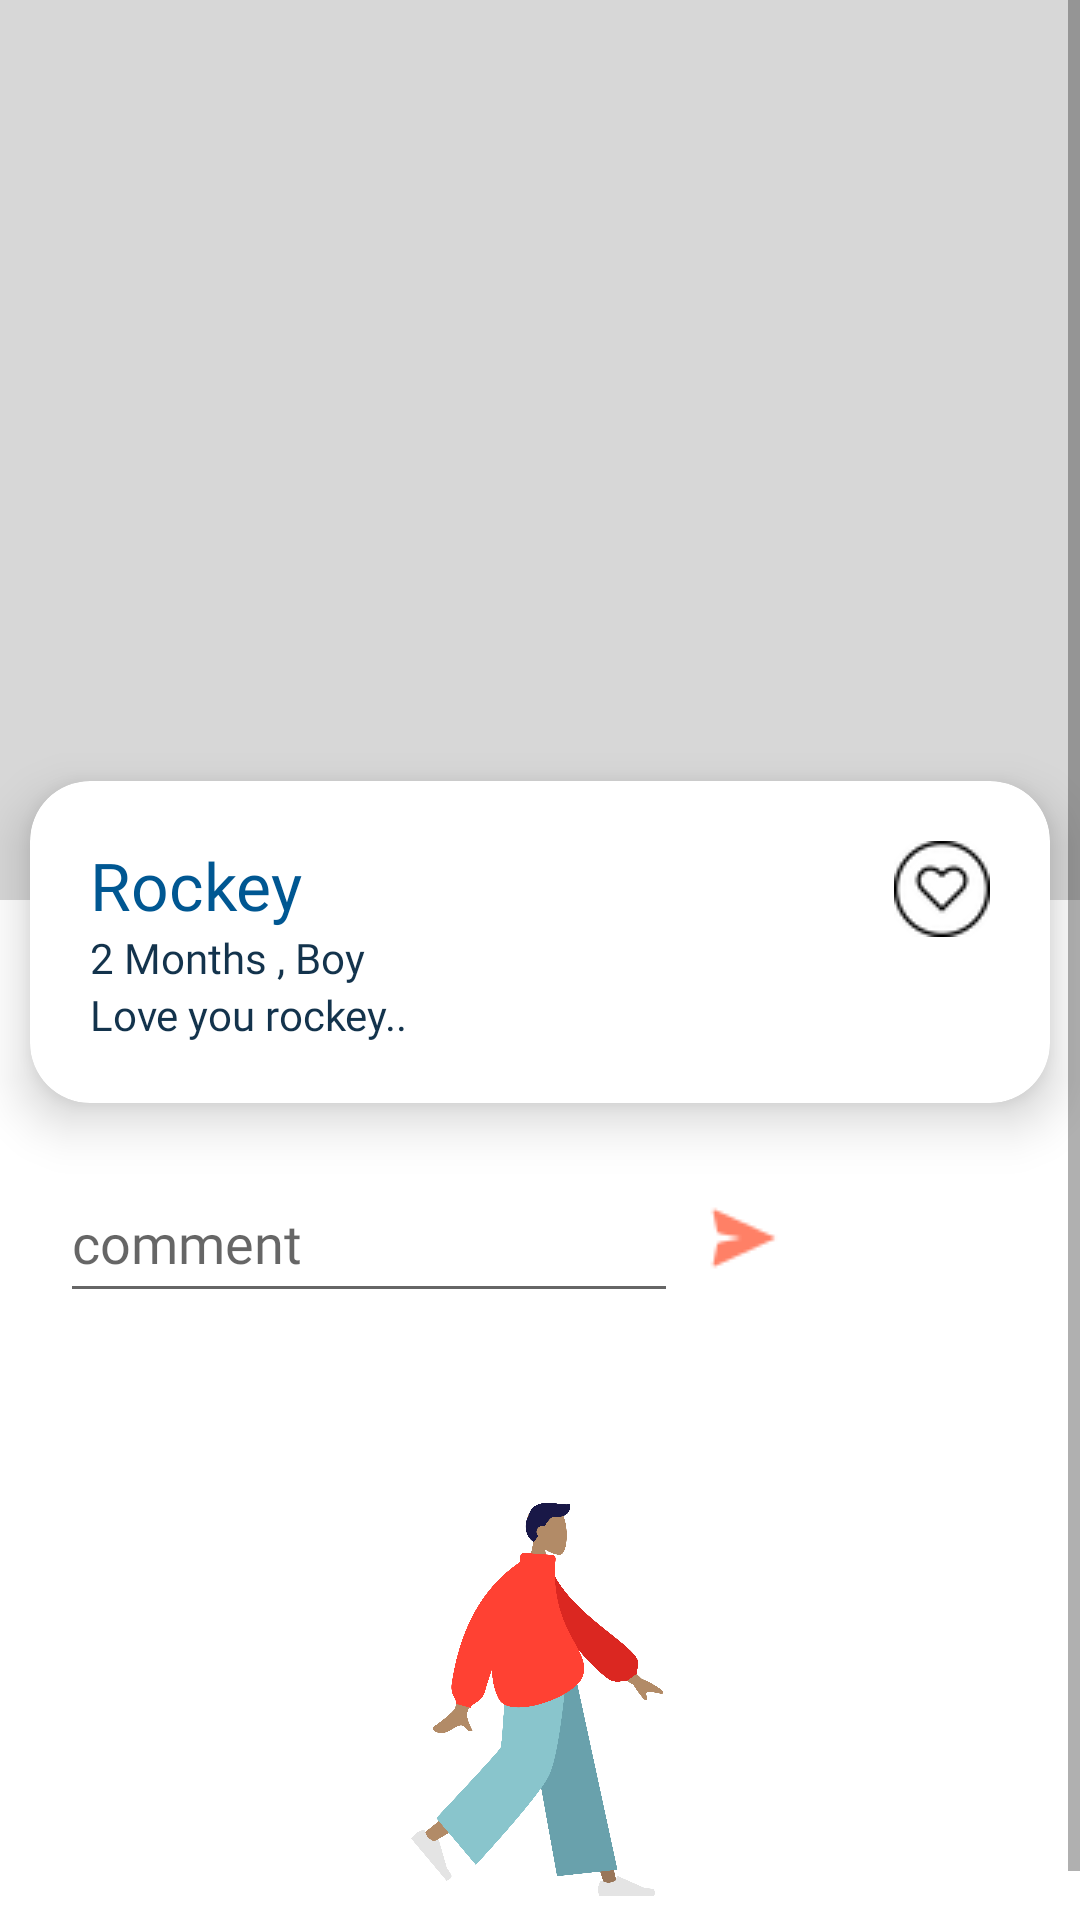

Screen size 1080*1920. Icon name, then its box in pixels as (x1, y1, x2, y2):
heart: (894, 841, 990, 937)
send: (712, 1208, 775, 1268)
